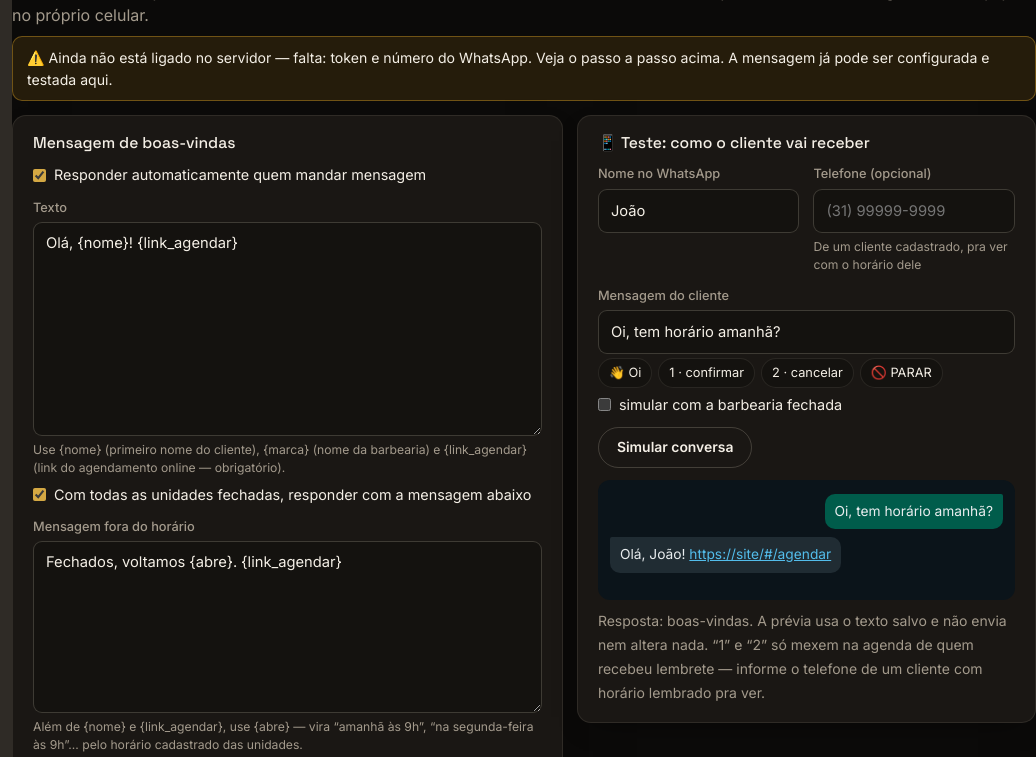
Notificações › simulador mostra a resposta e testa o PARAR sem enviar nada
The width and height of the screenshot is (1036, 757).
(page scrolled)
Check: the text "Olá, João! https://site/#/agendar" is shown, box [610, 537, 841, 573]
Click the button "🚫 PARAR" at (901, 373), box [860, 358, 943, 388]
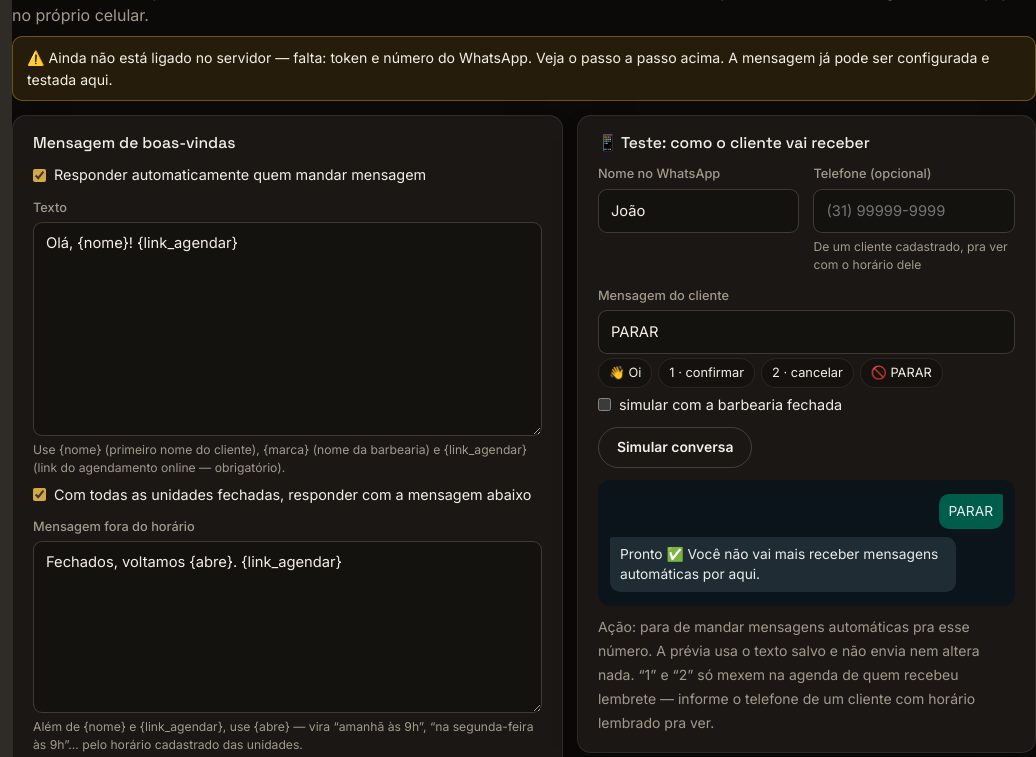
Check: the text "não vai mais receber mensagens automáticas" is shown, box [620, 546, 942, 582]
Check: the text "para de mandar mensagens automáticas" is shown, box [598, 618, 970, 659]
